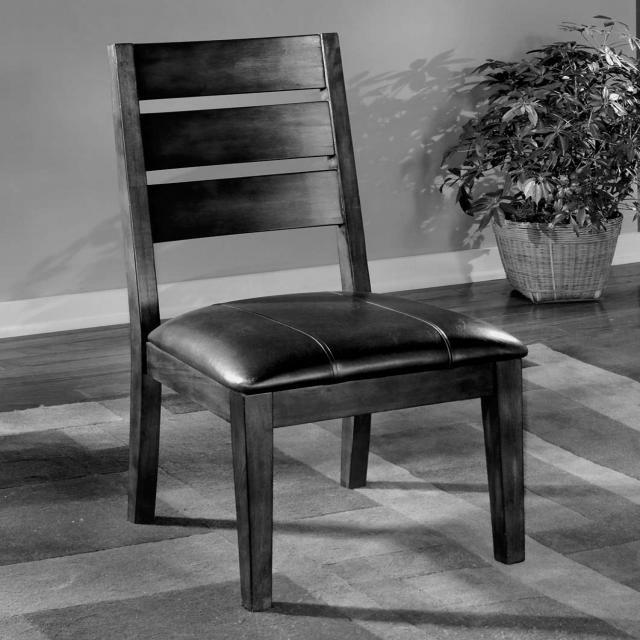chair: (104, 34, 534, 616)
